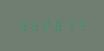five: (17, 20, 27, 31), (28, 20, 38, 31)
seven: (62, 20, 72, 31), (73, 20, 83, 31)
two: (40, 20, 50, 31)
zero: (51, 20, 61, 31)
